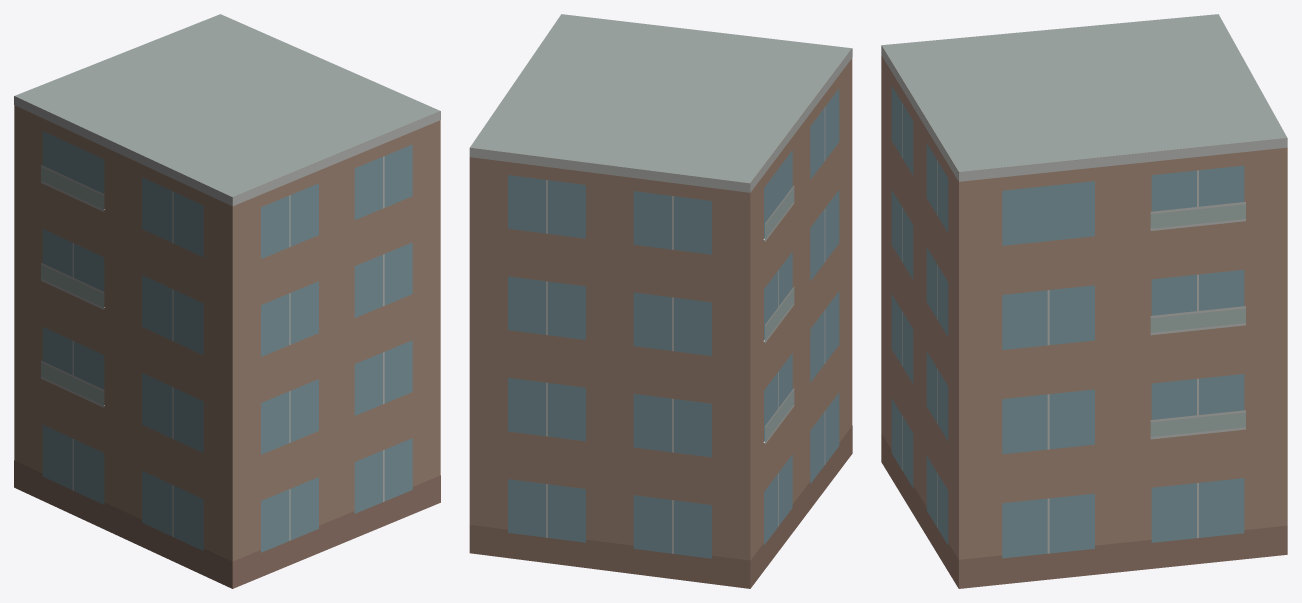
Rendered from survey-upis-32687226.glb.
3 views of the same model, side by side, from view 1: azimuth 30°, elevation 25°; view 2: azimuth 150°, elevation 25°; view 3: azimuth 270°, elevation 25° (orthographic). The views are drawn at different scales.
Parts seen in each view (by area): view 1: survey-upis-32687226.tmp; view 2: survey-upis-32687226.tmp; view 3: survey-upis-32687226.tmp.
Part boxes in pixels (box(x1,y1,x2,y2)): survey-upis-32687226.tmp: box(14, 14, 440, 588); survey-upis-32687226.tmp: box(469, 14, 852, 588); survey-upis-32687226.tmp: box(881, 14, 1287, 588).
Bounding box in the file's own units: 8.55 × 10.5 × 9.28.
